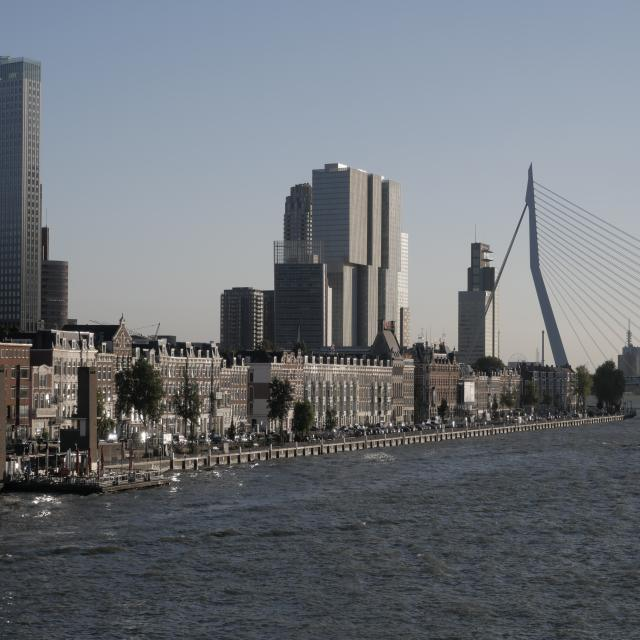building: (0, 314, 640, 448), (273, 162, 407, 346), (0, 52, 70, 326), (460, 241, 500, 357)
